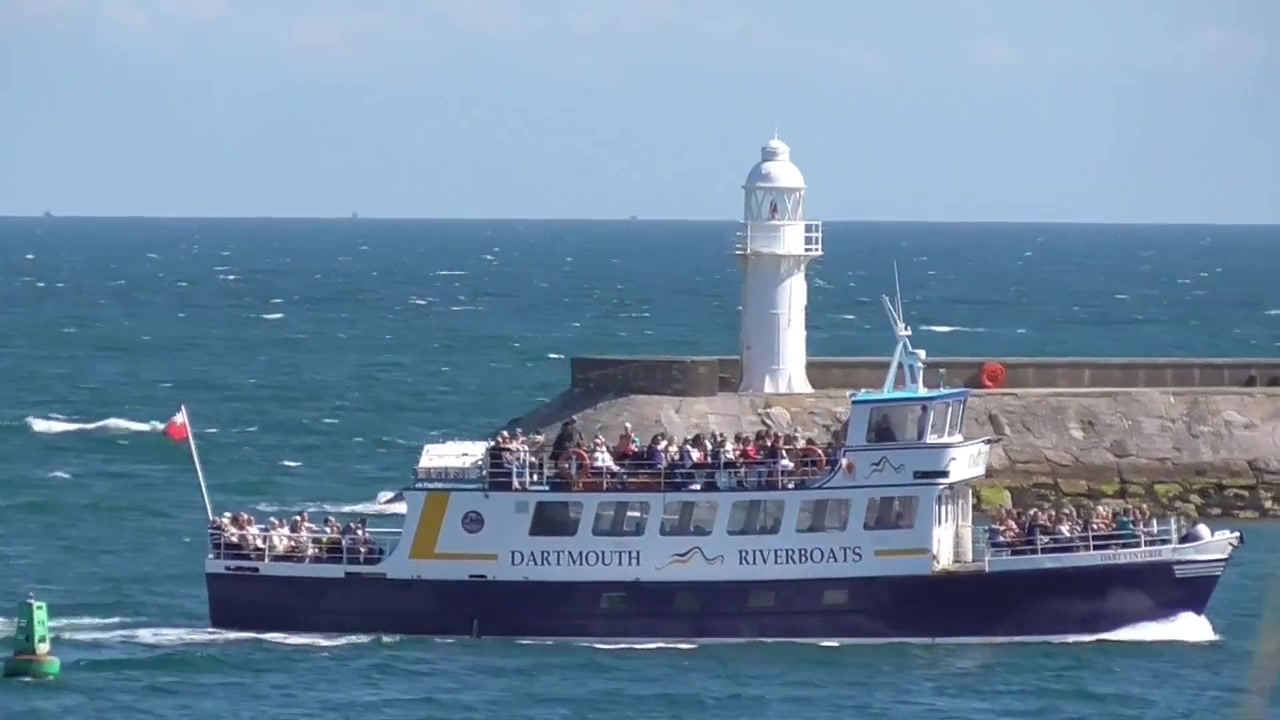CommonShip: (172, 329, 1245, 650)
